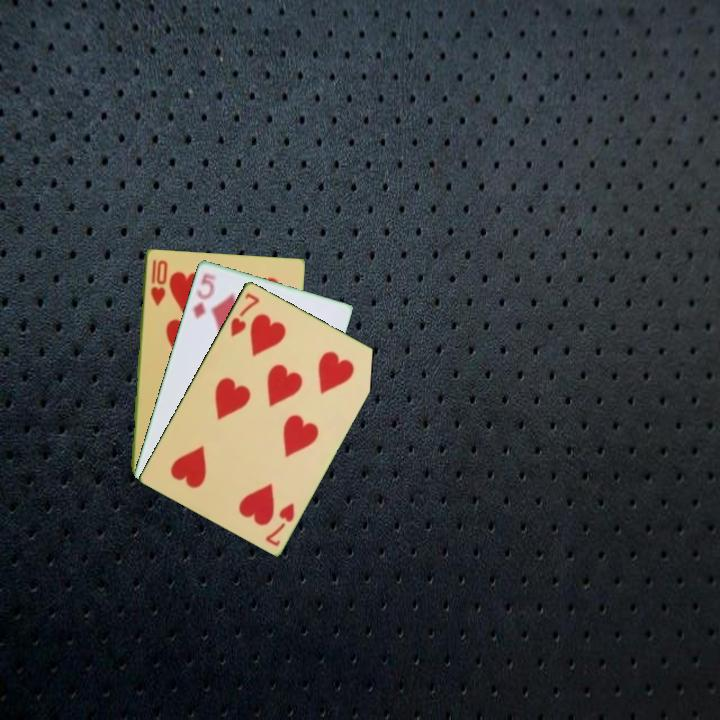10h: (147, 256, 169, 308)
5d: (189, 269, 219, 322)
7h: (227, 289, 262, 340), (262, 499, 297, 549)
